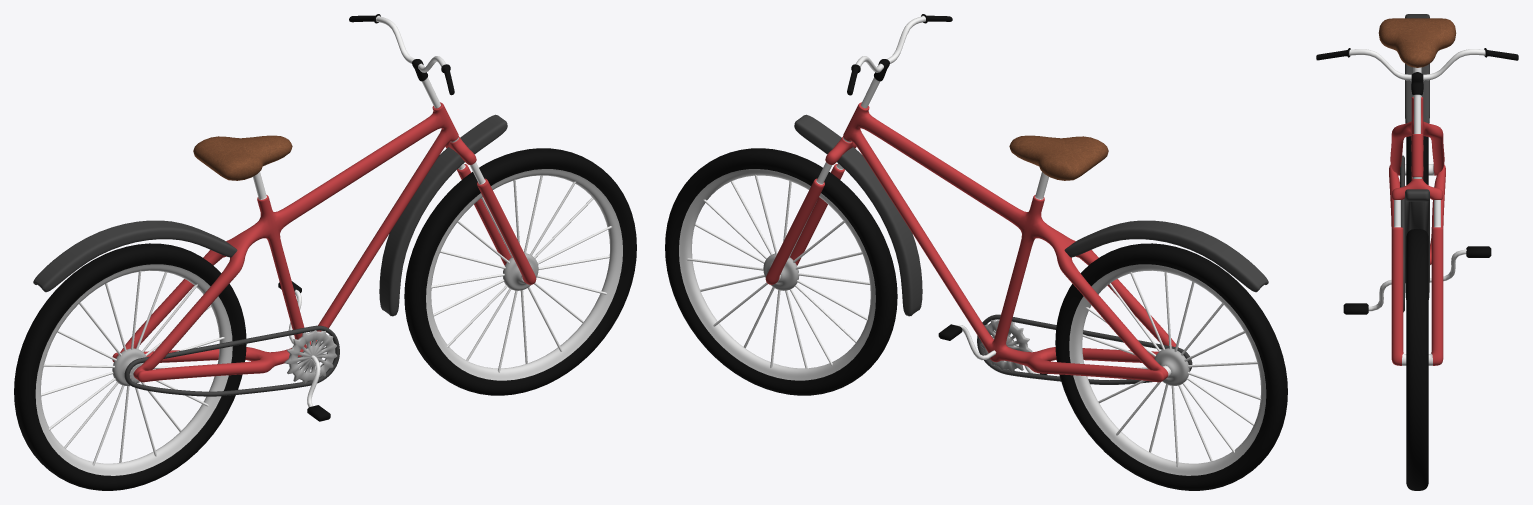
The picture shows the model from 3 angles, left to right: view 1: azimuth 30°, elevation 25°; view 2: azimuth 150°, elevation 25°; view 3: azimuth 270°, elevation 25°; orthographic projection.
Parts seen in each view (by area): view 1: bicycle_wheel_forward, bicycle_wheel_back, bicycle_body_main, bicycle_cover_forward, bicycle_cover_back, bicycle_needles_forward, bicycle_needles_back, bicycle_seat, bicycle_body_forward, bicycle_chain, bicycle_gear_main, bicycle_helm (+2 smaller); view 2: bicycle_wheel_forward, bicycle_wheel_back, bicycle_body_main, bicycle_cover_forward, bicycle_cover_back, bicycle_needles_forward, bicycle_needles_back, bicycle_seat, bicycle_body_forward, bicycle_chain, bicycle_helm, bicycle_gear_main (+2 smaller); view 3: bicycle_wheel_forward, bicycle_body_forward, bicycle_body_main, bicycle_seat, bicycle_helm, bicycle_cover_forward, bicycle_pedals, bicycle_cover_back, bicycle_wheel_back, bicycle_chain.
Boxes of the visible parts, x1,y1,x2,y2 form: bicycle_wheel_forward: (404,148,636,395); bicycle_wheel_back: (14,243,246,490); bicycle_body_main: (112,102,458,382); bicycle_cover_forward: (379,114,507,316); bicycle_cover_back: (33,220,237,292); bicycle_needles_forward: (431,175,612,372); bicycle_needles_back: (41,270,224,465); bicycle_seat: (193,135,292,180); bicycle_body_forward: (445,137,536,284); bicycle_chain: (124,325,339,396); bicycle_gear_main: (284,330,337,383); bicycle_helm: (349,14,454,108); bicycle_wheel_forward: (665,148,897,395); bicycle_wheel_back: (1055,243,1287,490); bicycle_body_main: (843,102,1178,382); bicycle_cover_forward: (794,114,922,316); bicycle_cover_back: (1064,220,1268,292); bicycle_needles_forward: (687,174,869,368); bicycle_needles_back: (1082,272,1261,467); bicycle_seat: (1009,135,1108,180); bicycle_body_forward: (765,137,856,284); bicycle_chain: (977,314,1192,384); bicycle_helm: (847,14,952,108); bicycle_gear_main: (979,320,1032,372); bicycle_wheel_forward: (1406,229,1428,490); bicycle_body_forward: (1391,177,1443,365); bicycle_body_main: (1389,67,1445,264); bicycle_seat: (1378,18,1456,67); bicycle_helm: (1316,48,1518,133); bicycle_cover_forward: (1405,189,1429,299); bicycle_pedals: (1343,246,1491,314); bicycle_cover_back: (1405,14,1429,123); bicycle_wheel_back: (1406,136,1428,184); bicycle_chain: (1400,155,1404,312).
Bounding box in the file's own units: 2.07 × 1.21 × 0.5889.
23 materials, 5 textured.
